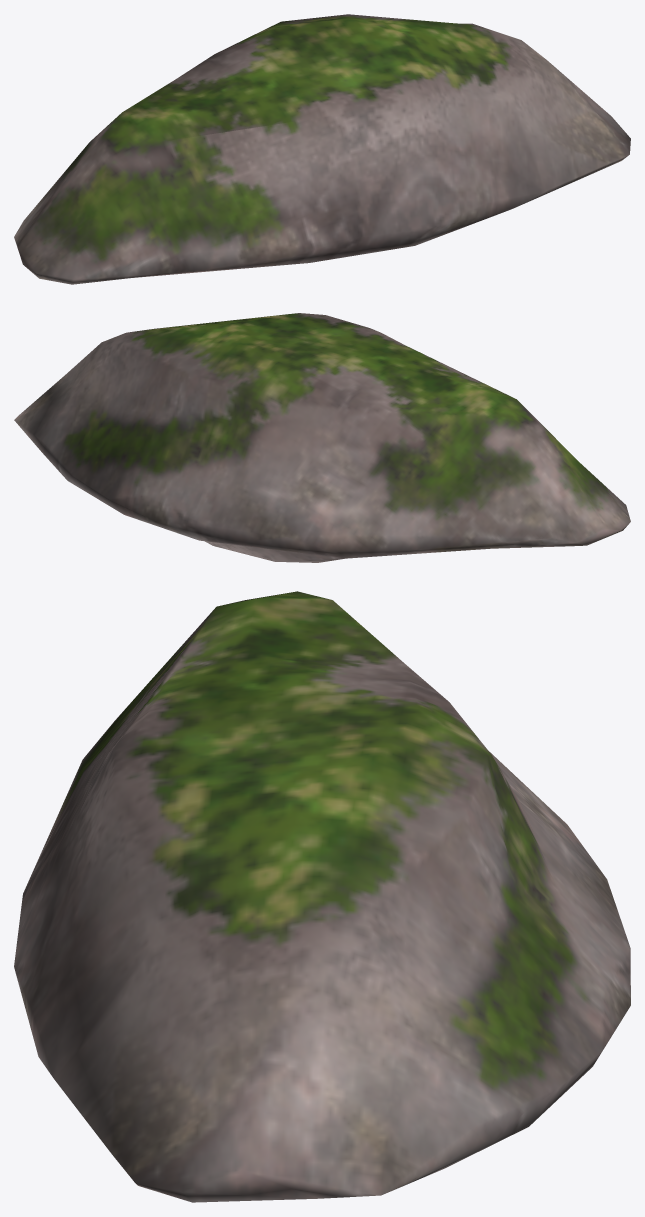
The model's file is land_rock_02.fbx.
3 renders of one model, top to bottom at view 1: azimuth 30°, elevation 25°; view 2: azimuth 150°, elevation 25°; view 3: azimuth 270°, elevation 25°, orthographic. The views are drawn at different scales.
Visible parts, largest first — view 1: land_rock_02; view 2: land_rock_02; view 3: land_rock_02.
Boxes of the visible parts, x1=… form: land_rock_02: x1=14, y1=14, x2=630, y2=284; land_rock_02: x1=14, y1=313, x2=630, y2=562; land_rock_02: x1=14, y1=591, x2=630, y2=1202.
Size of the model in its own units: 22.4 by 7.07 by 11.48.
